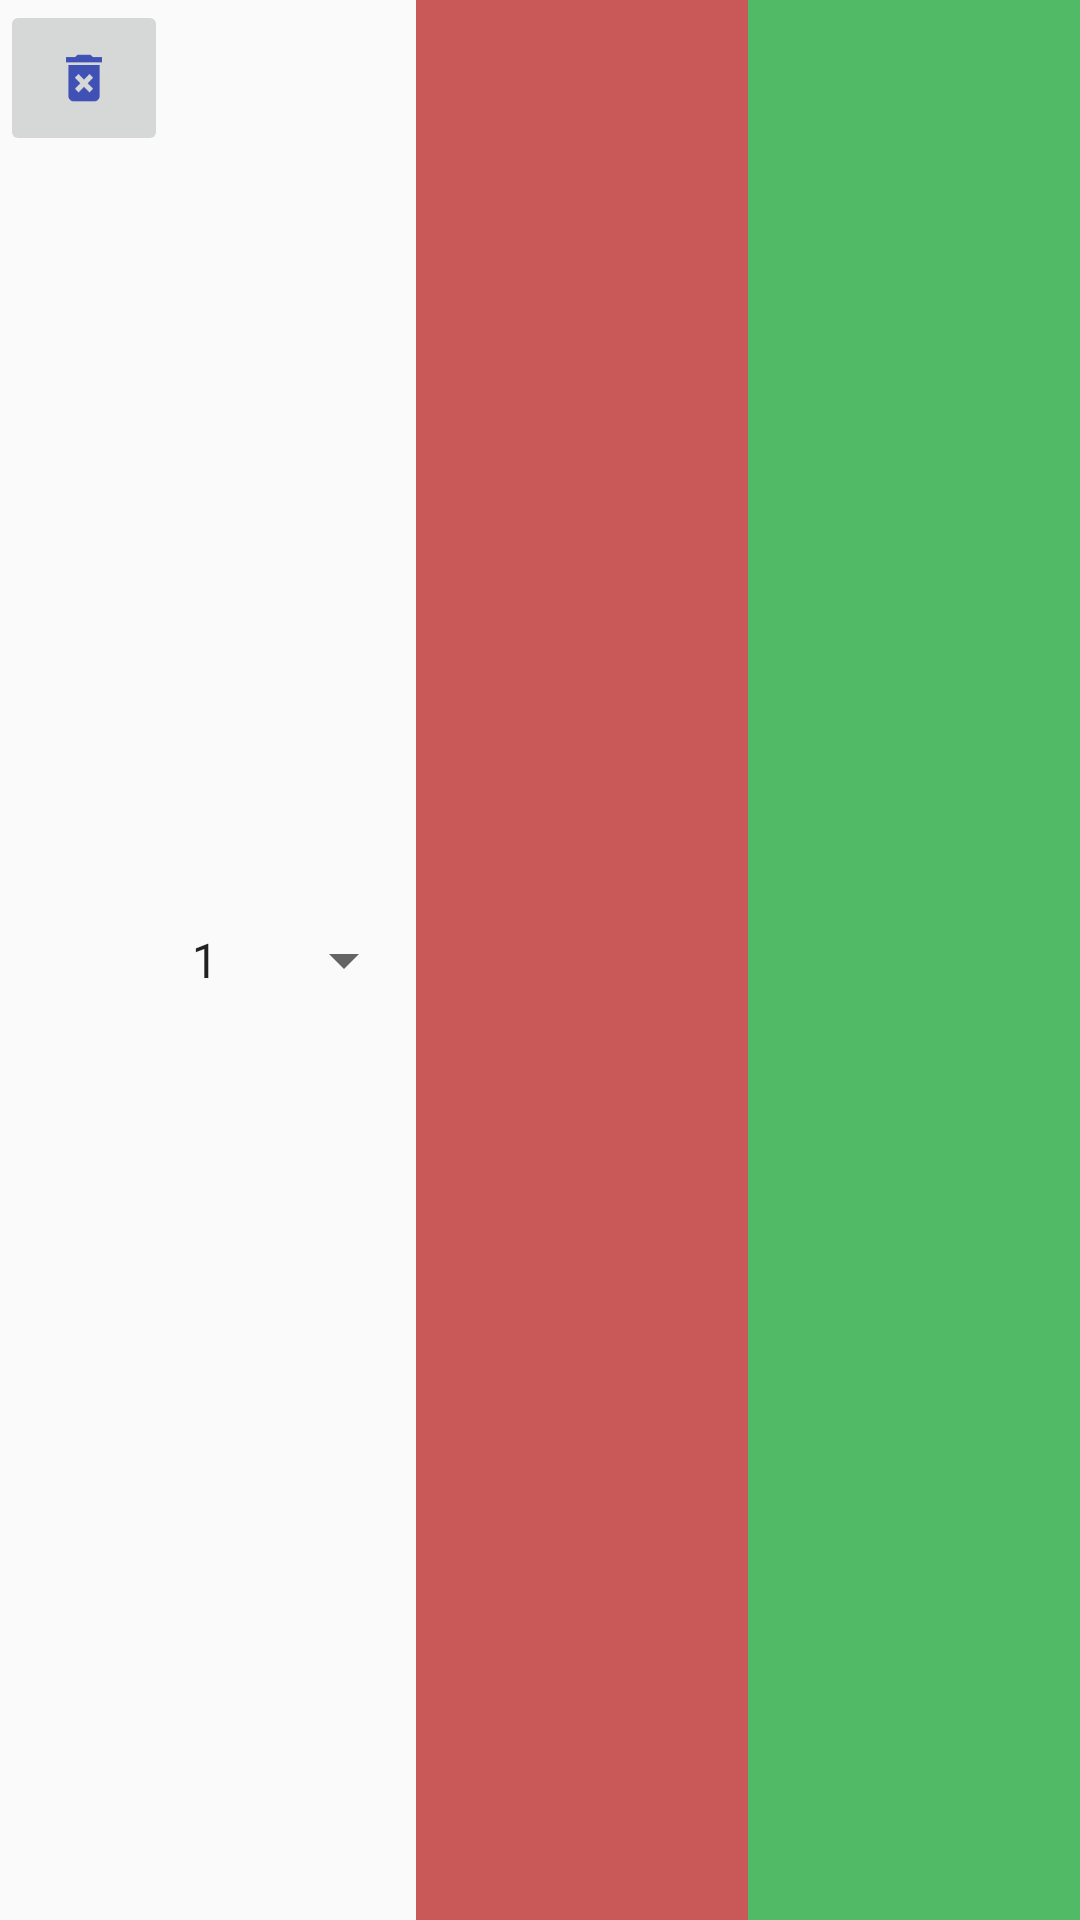

Icons on this 1080px×1920px Android screen, each with its box as (x1, y1, x2, y2):
Delete piece count from pieces to add: (12, 18, 156, 138)
